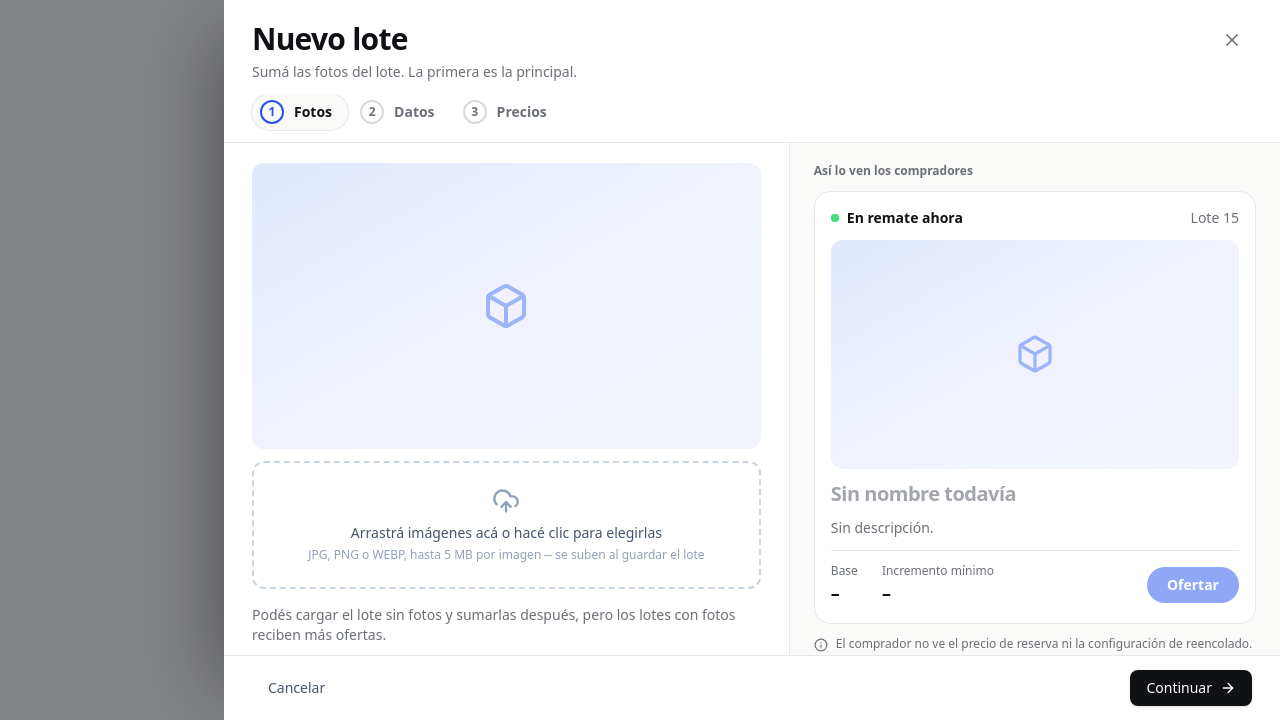
Test: LoteDrawer › en creación arranca en Fotos y sugiere el siguiente número de lote
Click the button "Continuar" at [1191, 688], box x1=1130 y1=670 x2=1252 y2=706
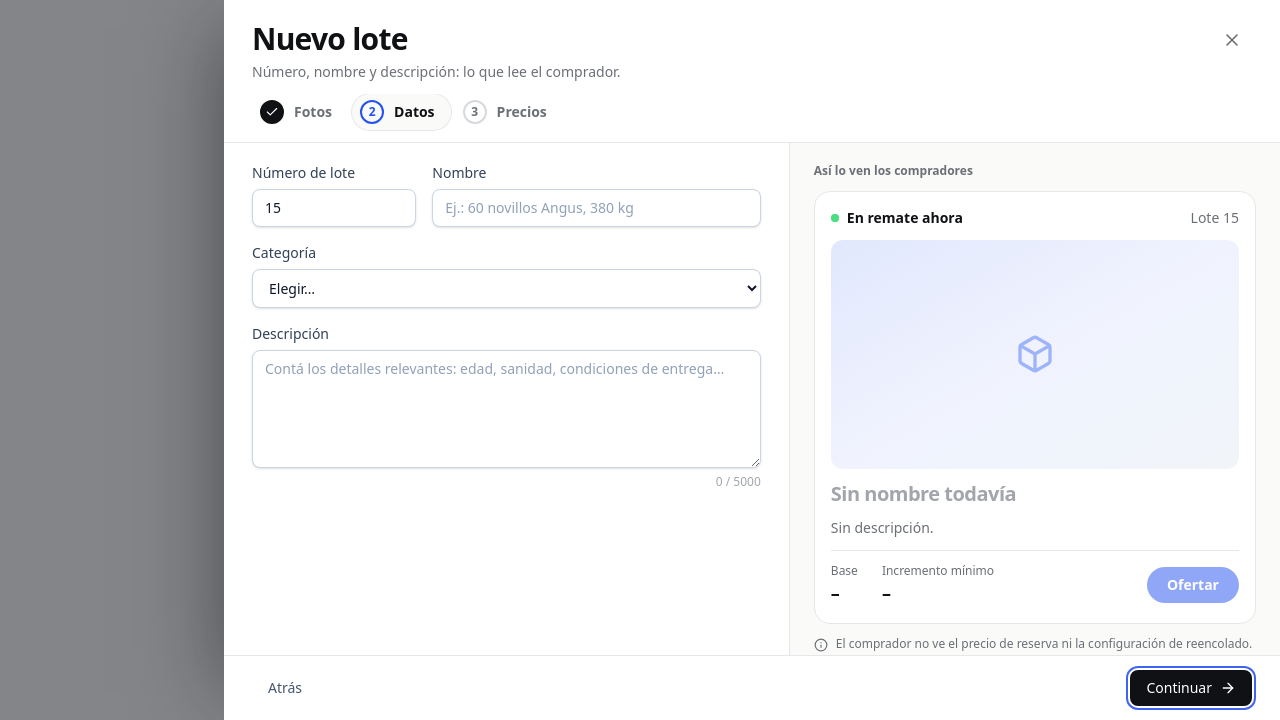
Expected: the field labelled "Número de lote" holds "15", x1=252 y1=188 x2=416 y2=226
